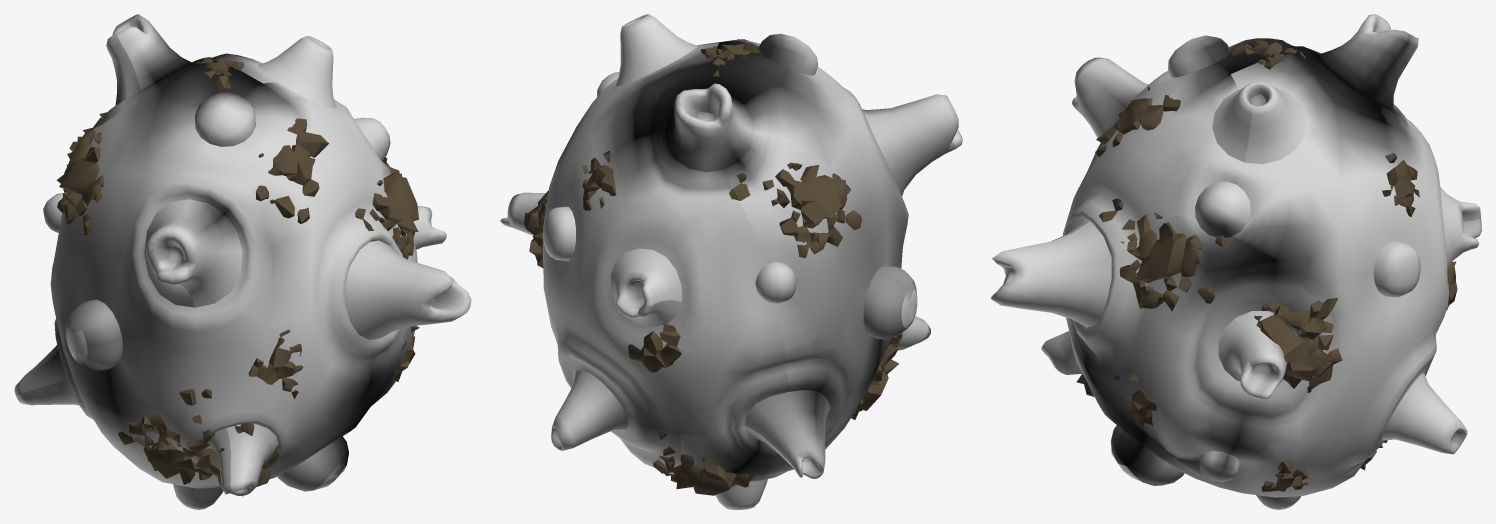
File: p_mesh_gaspotato01_large.fbx
The picture shows the model from 3 angles, left to right: view 1: azimuth 30°, elevation 25°; view 2: azimuth 150°, elevation 25°; view 3: azimuth 270°, elevation 25°; orthographic projection. The views are drawn at different scales.
Parts seen in each view (by area): view 1: p_mesh_gaspotato03; view 2: p_mesh_gaspotato03; view 3: p_mesh_gaspotato03.
Boxes of the visible parts, x1,y1,x2,y2 form: p_mesh_gaspotato03: (14,14,471,509); p_mesh_gaspotato03: (500,14,962,509); p_mesh_gaspotato03: (991,14,1481,509).
Size of the model in its own units: 47.86 by 53.62 by 49.86.
